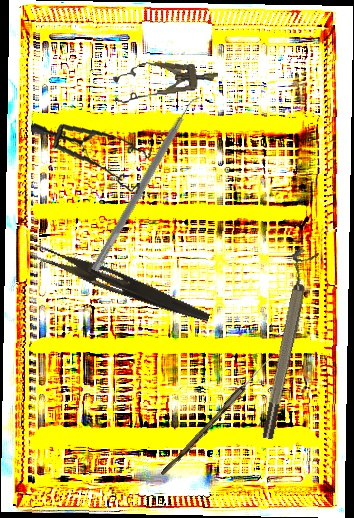Dressing Forceps: (28, 242, 214, 326)
Fixation Ring: (250, 247, 320, 441)
Spatula Surgical: (90, 90, 205, 277)
Speculum: (30, 110, 157, 206), (111, 55, 221, 106)
Surgical Spoon: (160, 353, 274, 479)
